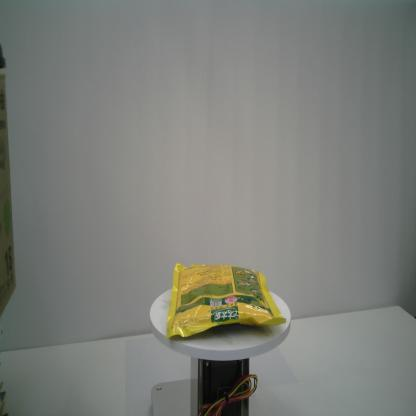Seasoner: (165, 262, 287, 338)
